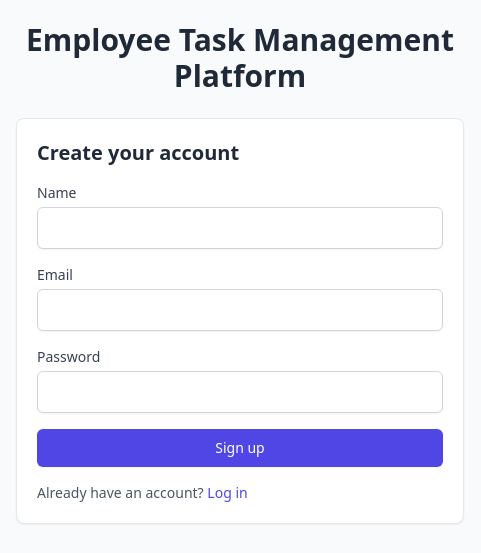
Test case: SignUpPage › shows the server message under the email field
In the field labelled "Name": (240, 228) [37,207,443,249], type "Eli Employee"
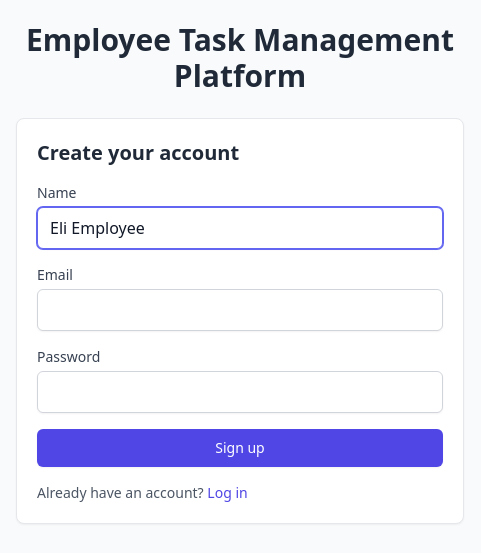
In the field labelled "Email": (240, 310) [37,289,443,331], type "employee@example.com"
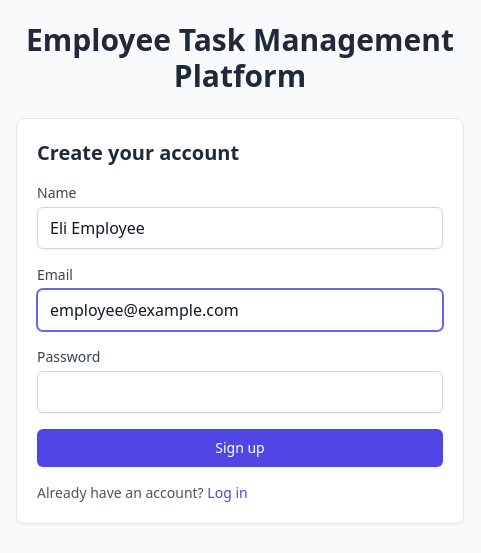
In the password field labelled "Password": (240, 392) [37,371,443,413], type "secret1234"
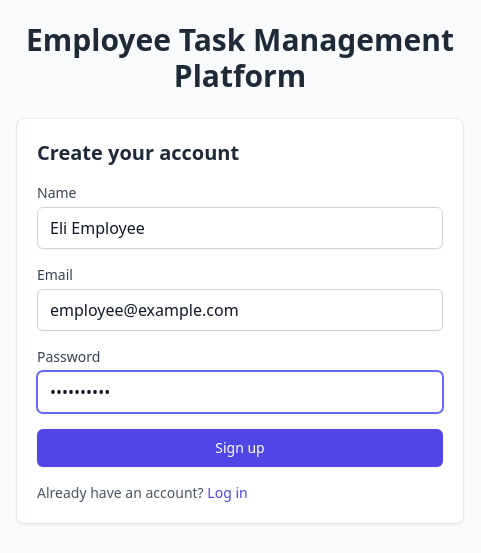
Click the button "Sign up": (240, 448) [37,429,443,467]
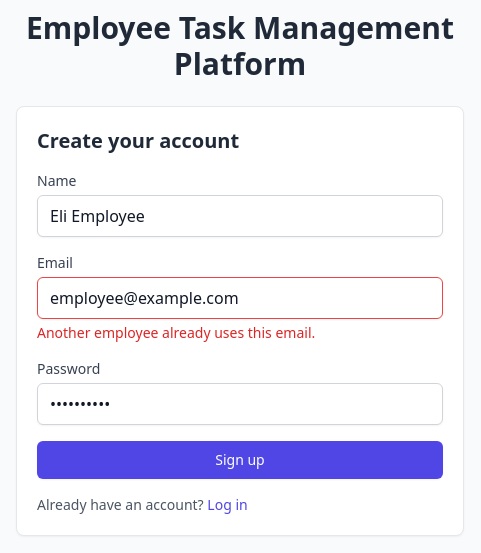
Check: the text "Another employee already uses this email." is shown, box [37,323,315,342]
